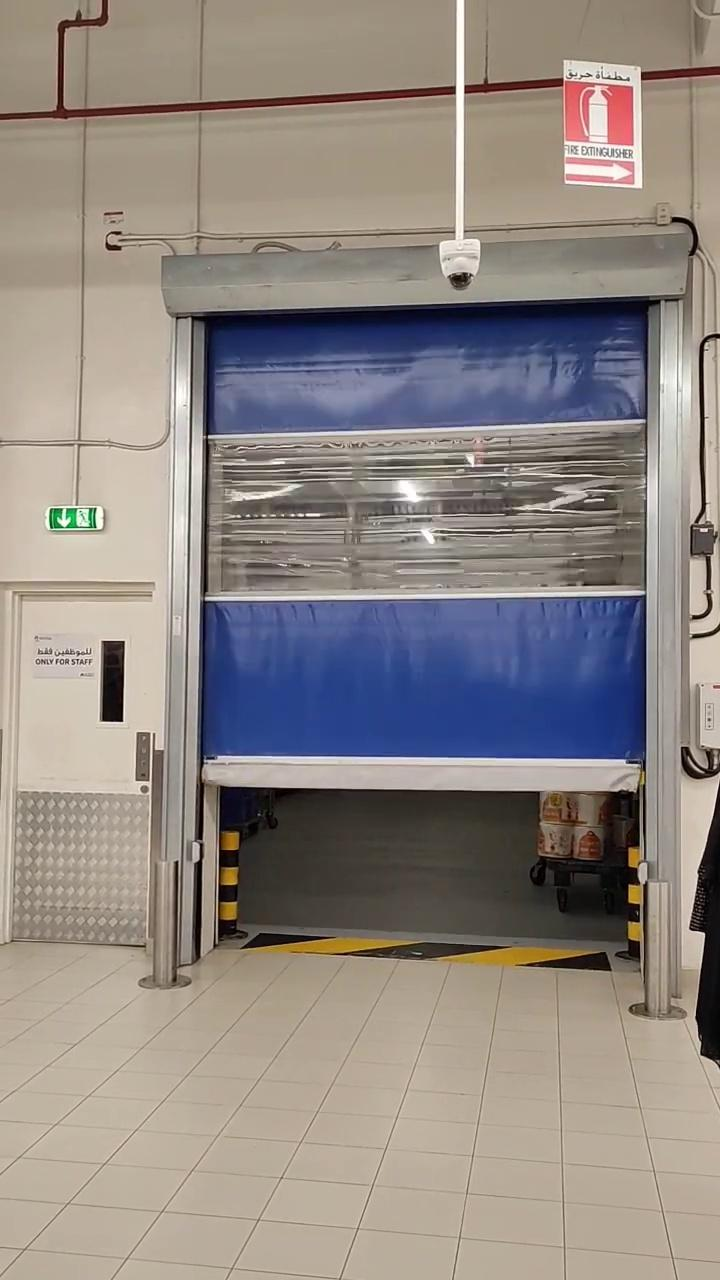Strip: (251, 920, 613, 977)
